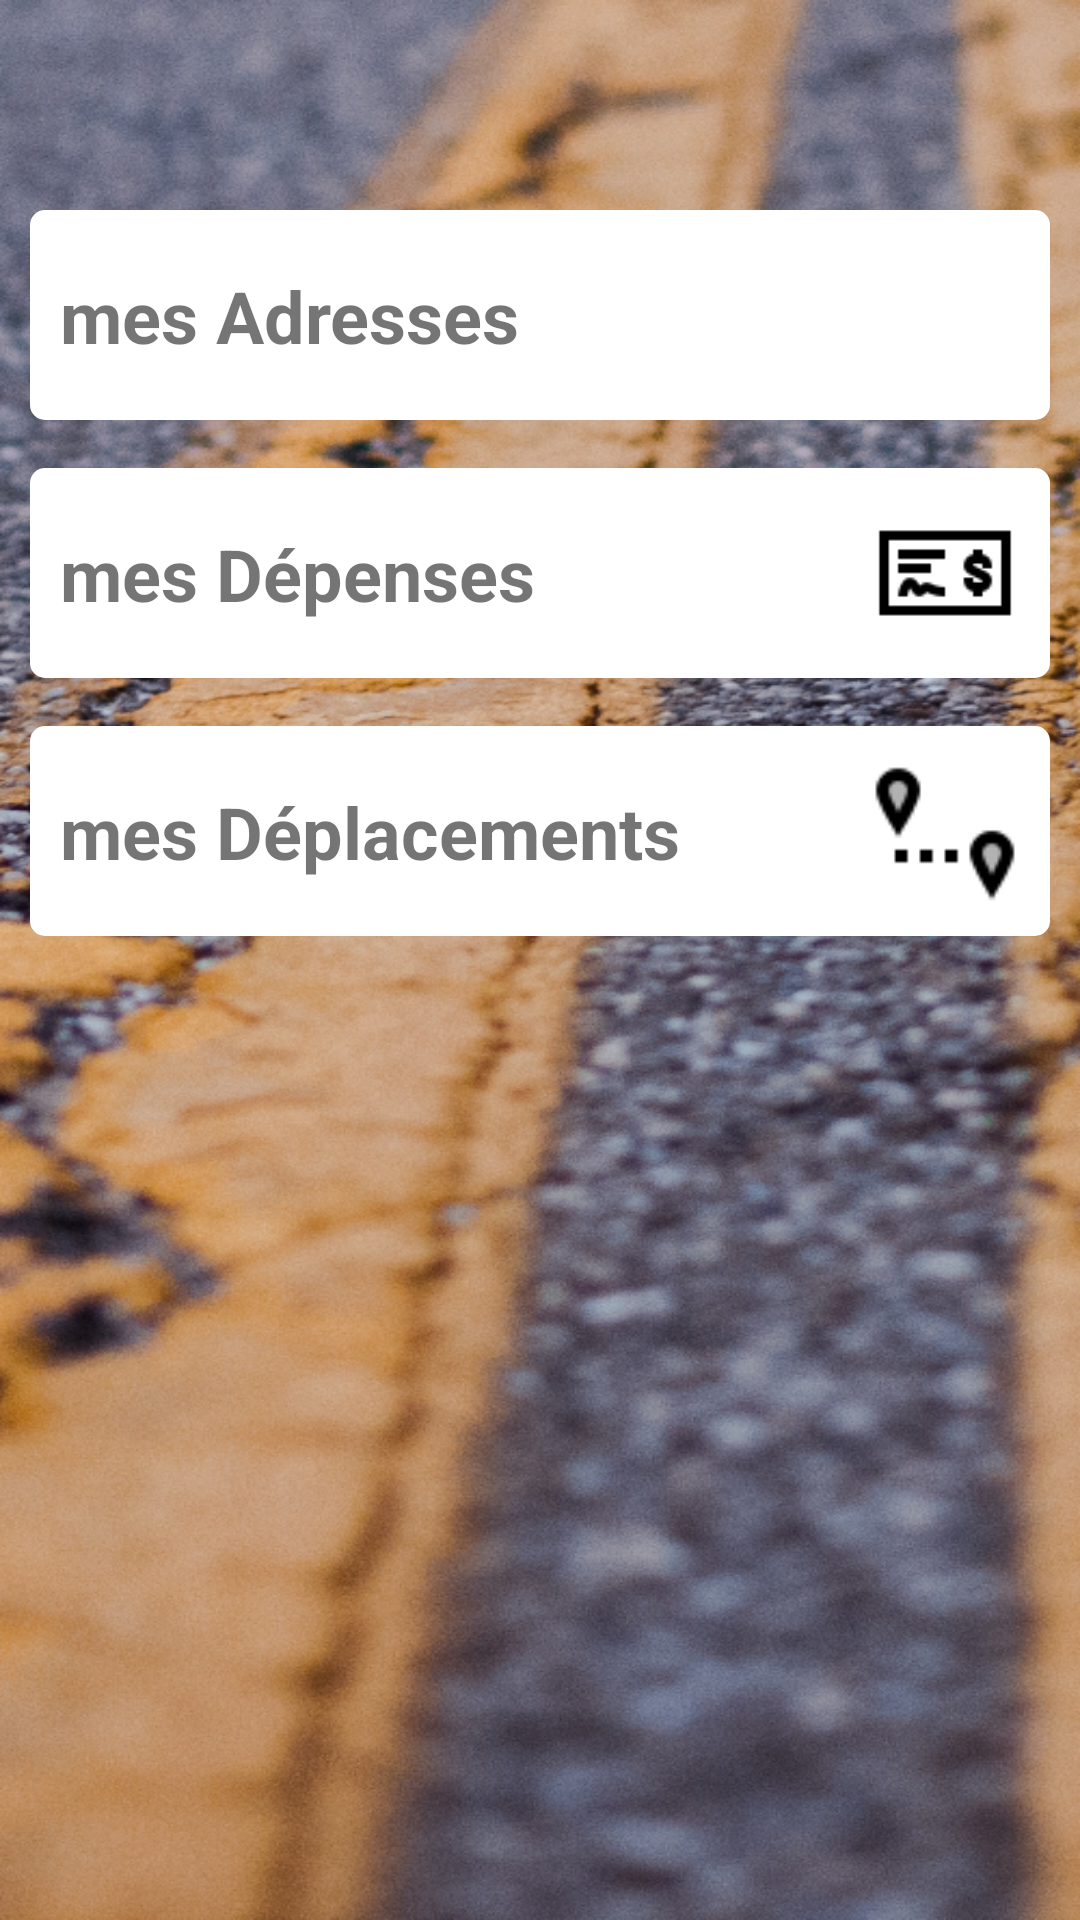

Named icons in this screenshot (1080 x 1920) and their bounding boxes, region(x1, y1, x2, y2):
expenses: region(878, 530, 1012, 616)
travels: region(875, 767, 1015, 900)
